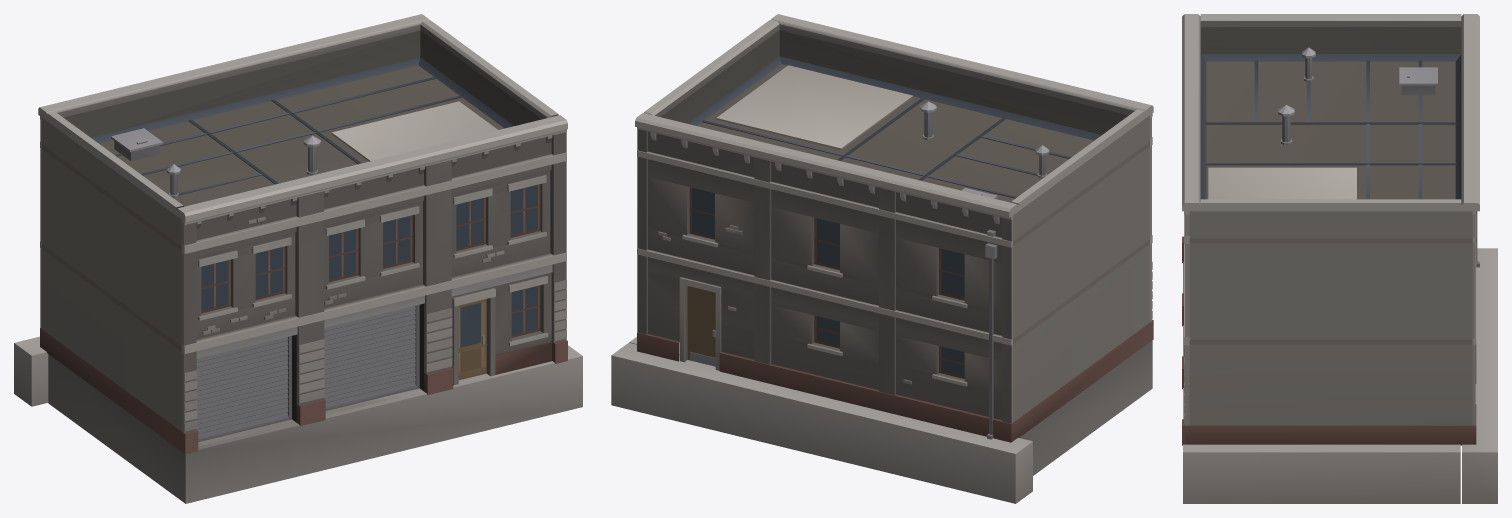
File: repair.glb
3 views of the same model, side by side, from view 1: azimuth 30°, elevation 25°; view 2: azimuth 150°, elevation 25°; view 3: azimuth 270°, elevation 25° (orthographic). The views are drawn at different scales.
Visible parts, largest first — view 1: repair; view 2: repair; view 3: repair.
Boxes of the visible parts, x1,y1,x2,y2 form: repair: (14, 14, 582, 503); repair: (611, 14, 1153, 503); repair: (1182, 14, 1497, 503).
Bounding box in the file's own units: 12.96 × 8.7 × 8.48.
